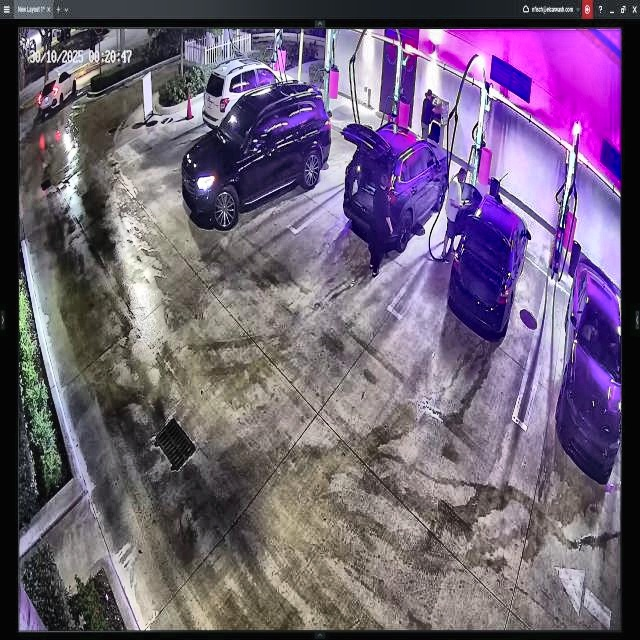Car: (182, 80, 332, 221), (342, 116, 448, 245), (448, 174, 528, 343)
